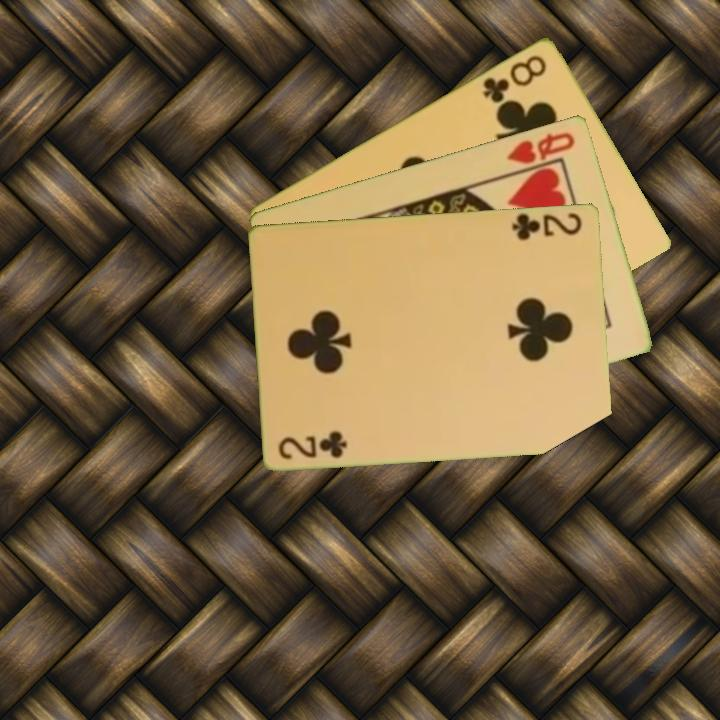2c: (508, 209, 585, 242), (275, 428, 350, 461)
8c: (479, 50, 550, 106)
Qh: (503, 128, 578, 167)
